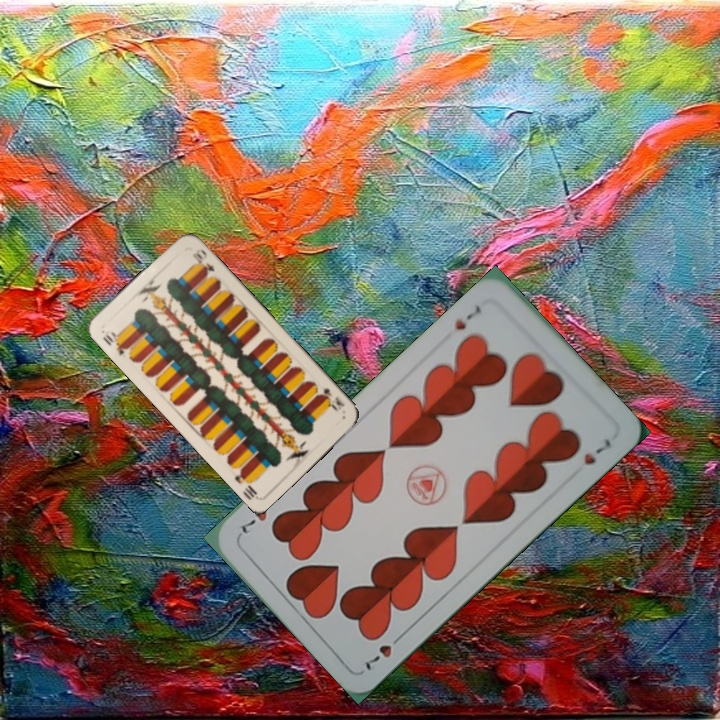E10: (98, 327, 131, 359), (313, 383, 347, 413)
H7: (359, 629, 407, 673), (451, 301, 485, 333)
